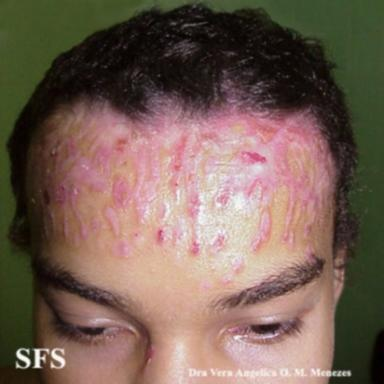Epidermolysis-Bullosa-Pruriginosa: (32, 105, 333, 273)
